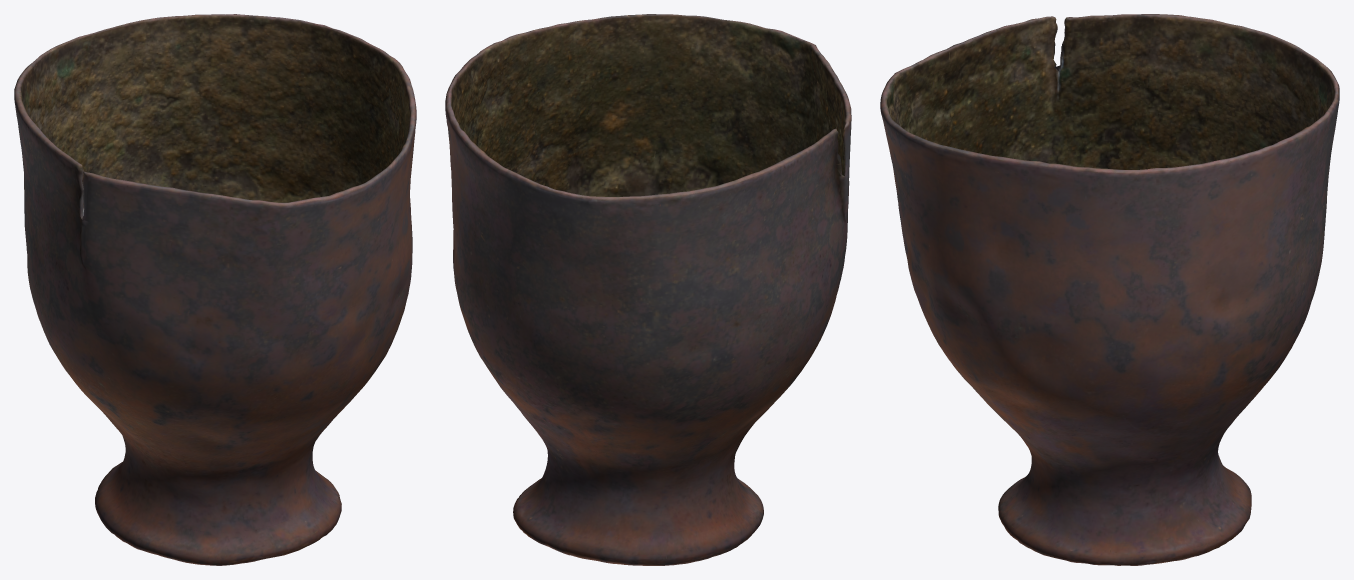
The model's file is BronzeCup.fbx.
3 views of the same model, side by side, from view 1: azimuth 30°, elevation 25°; view 2: azimuth 150°, elevation 25°; view 3: azimuth 270°, elevation 25° (orthographic).
Parts seen in each view (by area): view 1: BronzeCup_Low_Poly; view 2: BronzeCup_Low_Poly; view 3: BronzeCup_Low_Poly.
Boxes of the visible parts, left/top/right/bottom form: BronzeCup_Low_Poly: left=14, top=14, right=416, bottom=565; BronzeCup_Low_Poly: left=445, top=14, right=851, bottom=565; BronzeCup_Low_Poly: left=880, top=14, right=1339, bottom=565.
Bounding box in the file's own units: 6.64 × 8.05 × 7.63.
